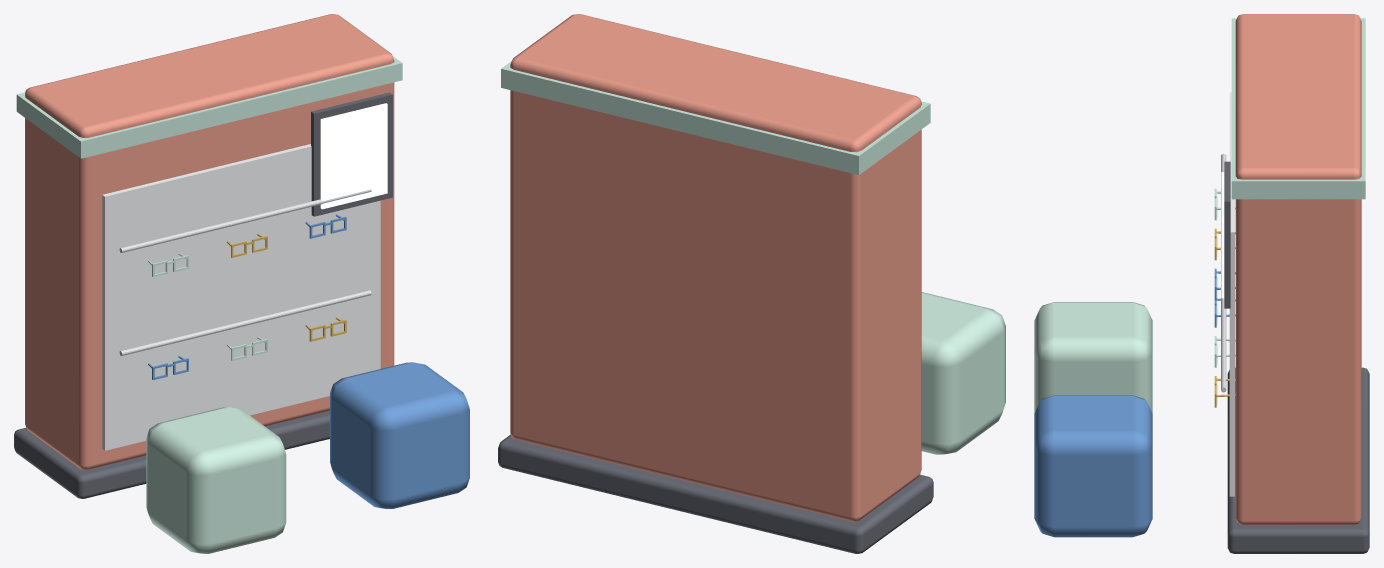
3 renders of one model, left to right at view 1: azimuth 30°, elevation 25°; view 2: azimuth 150°, elevation 25°; view 3: azimuth 270°, elevation 25°, orthographic. The views are drawn at different scales.
Parts seen in each view (by area): view 1: childrens-frame-corner; view 2: childrens-frame-corner; view 3: childrens-frame-corner.
Part boxes in pixels (bbox=[...]): childrens-frame-corner: bbox=[14, 14, 469, 553]; childrens-frame-corner: bbox=[498, 14, 1005, 553]; childrens-frame-corner: bbox=[1034, 14, 1369, 553].
Bounding box in the file's own units: 1 × 1.07 × 0.85.
